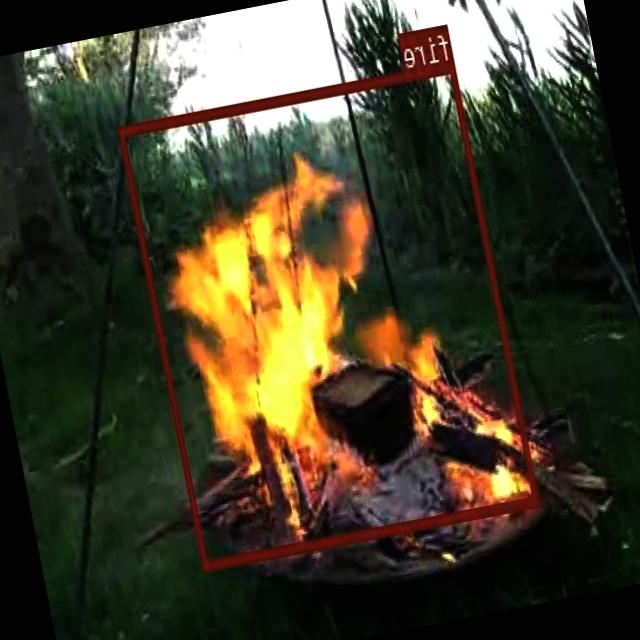fire: (118, 59, 540, 569)
